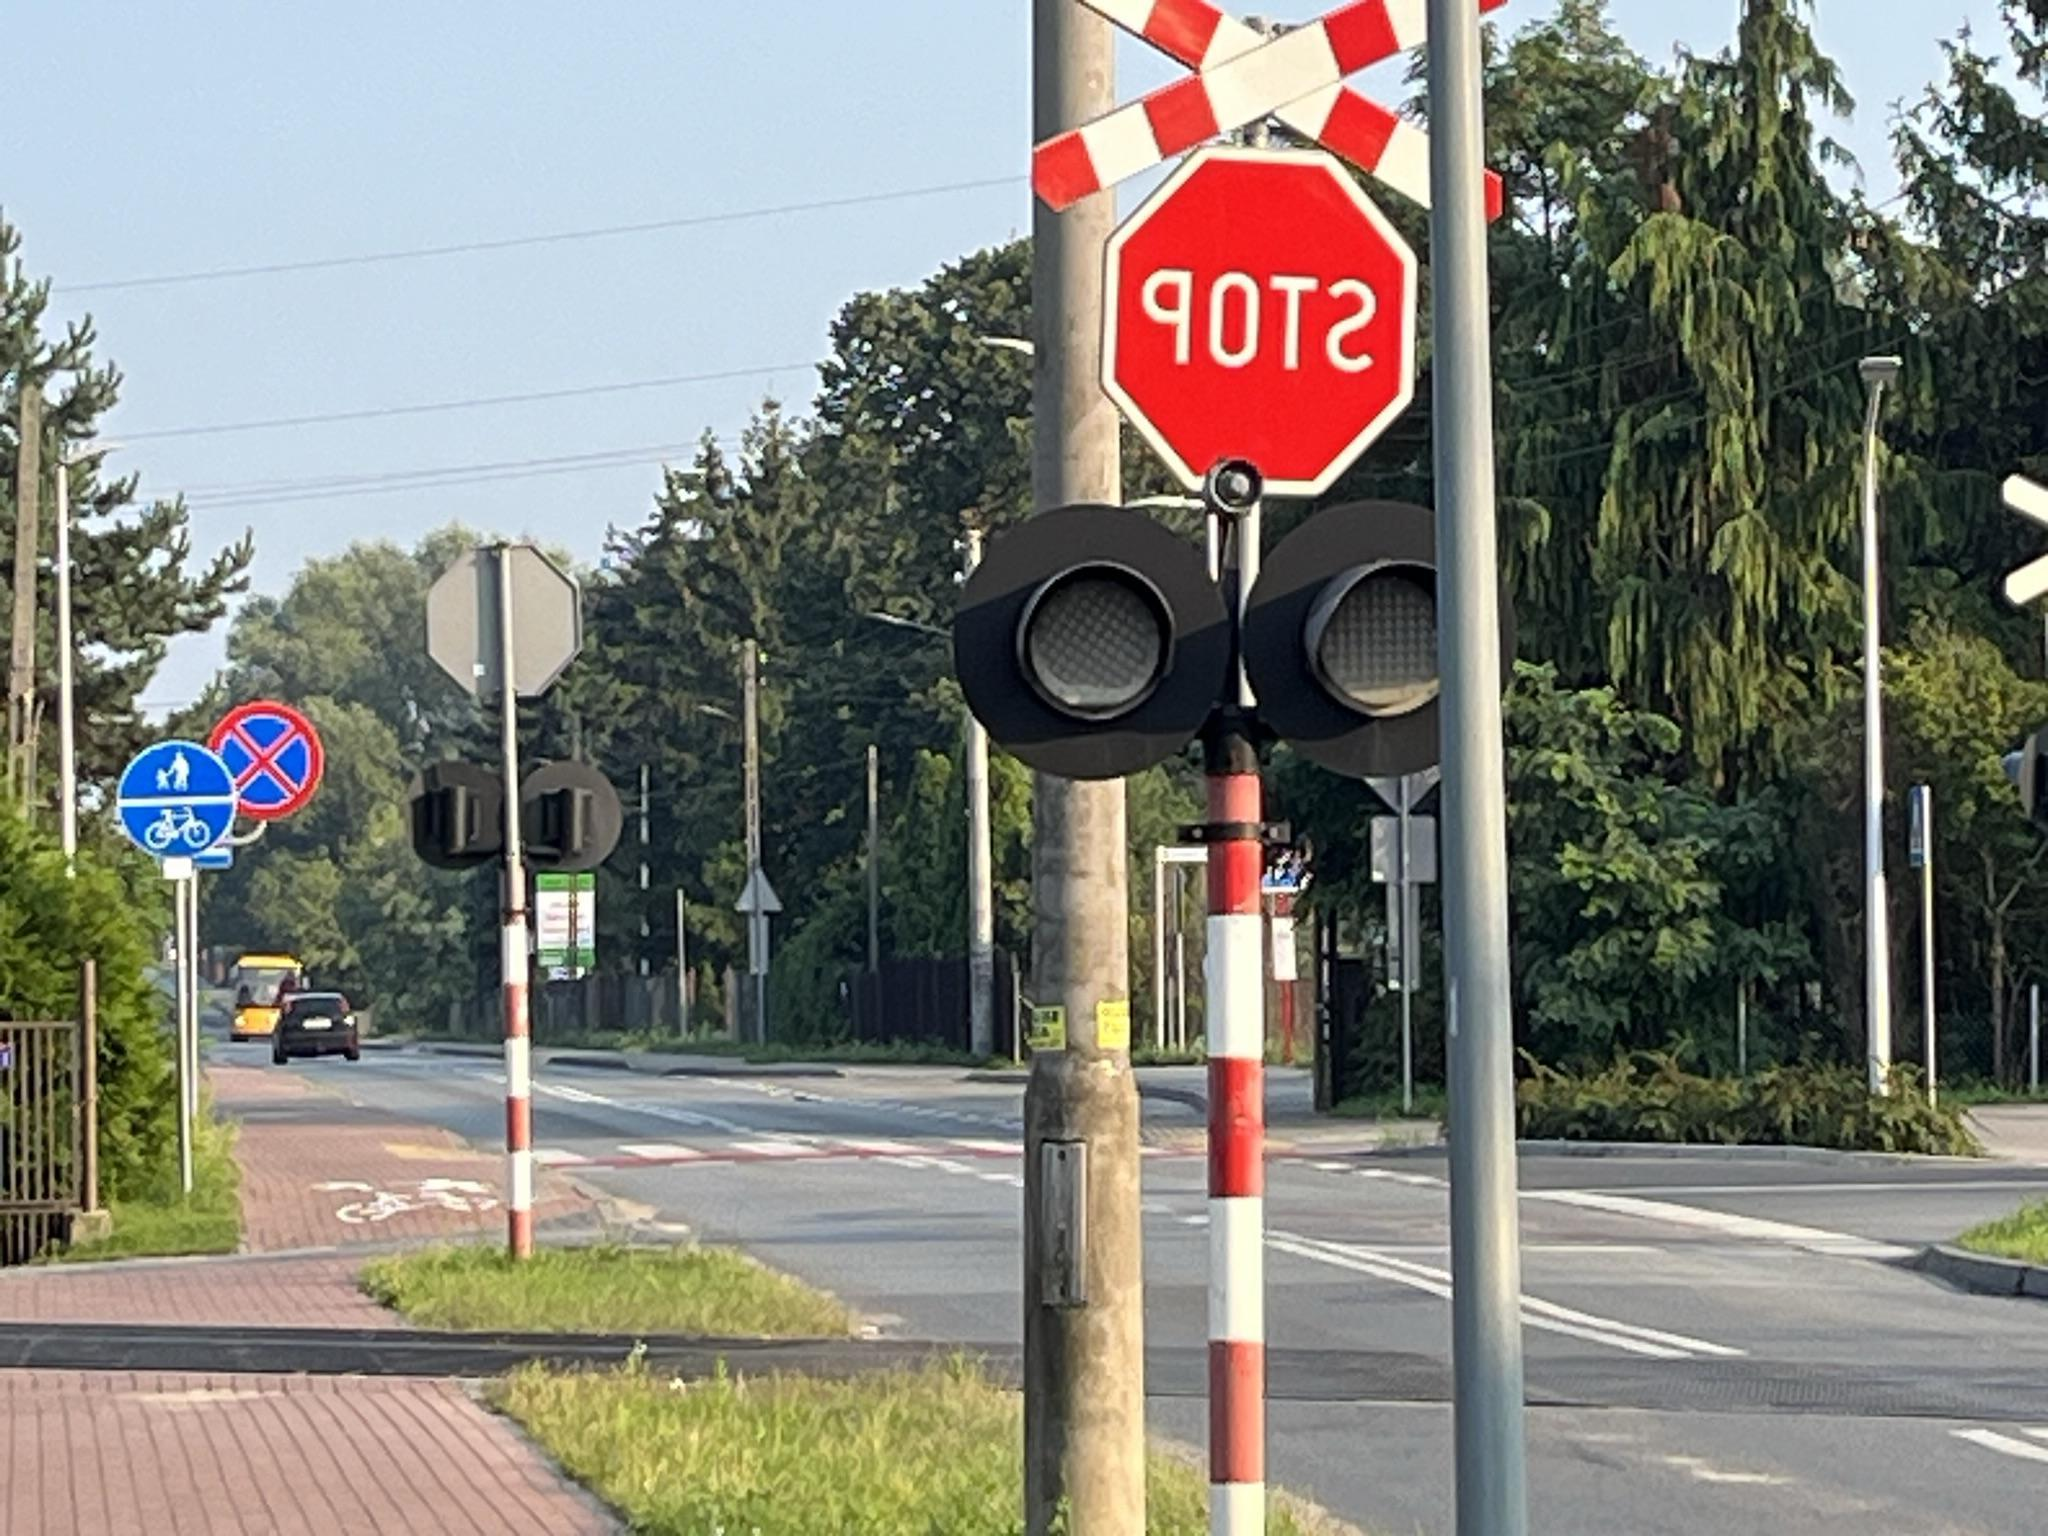mandatory: (114, 737, 239, 858)
prohibitory: (1101, 145, 1416, 502), (206, 699, 323, 820)
